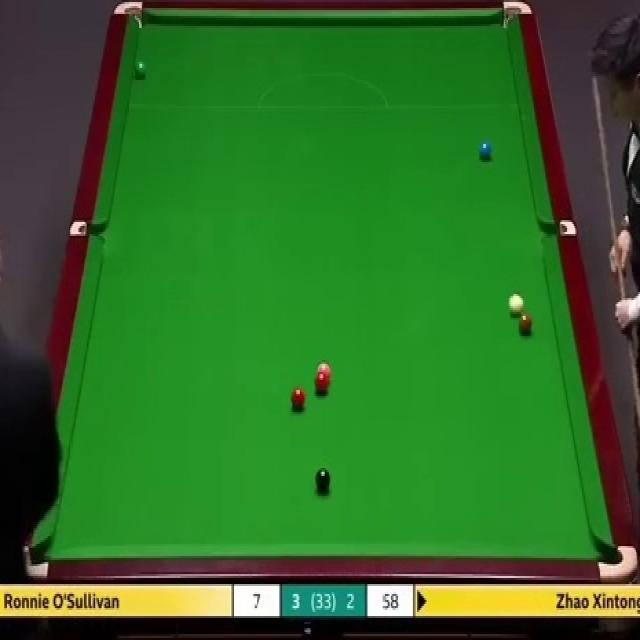pocket: (598, 544, 638, 583), (23, 542, 50, 579), (502, 2, 533, 32), (112, 1, 144, 30), (70, 221, 104, 240), (542, 222, 576, 240)
